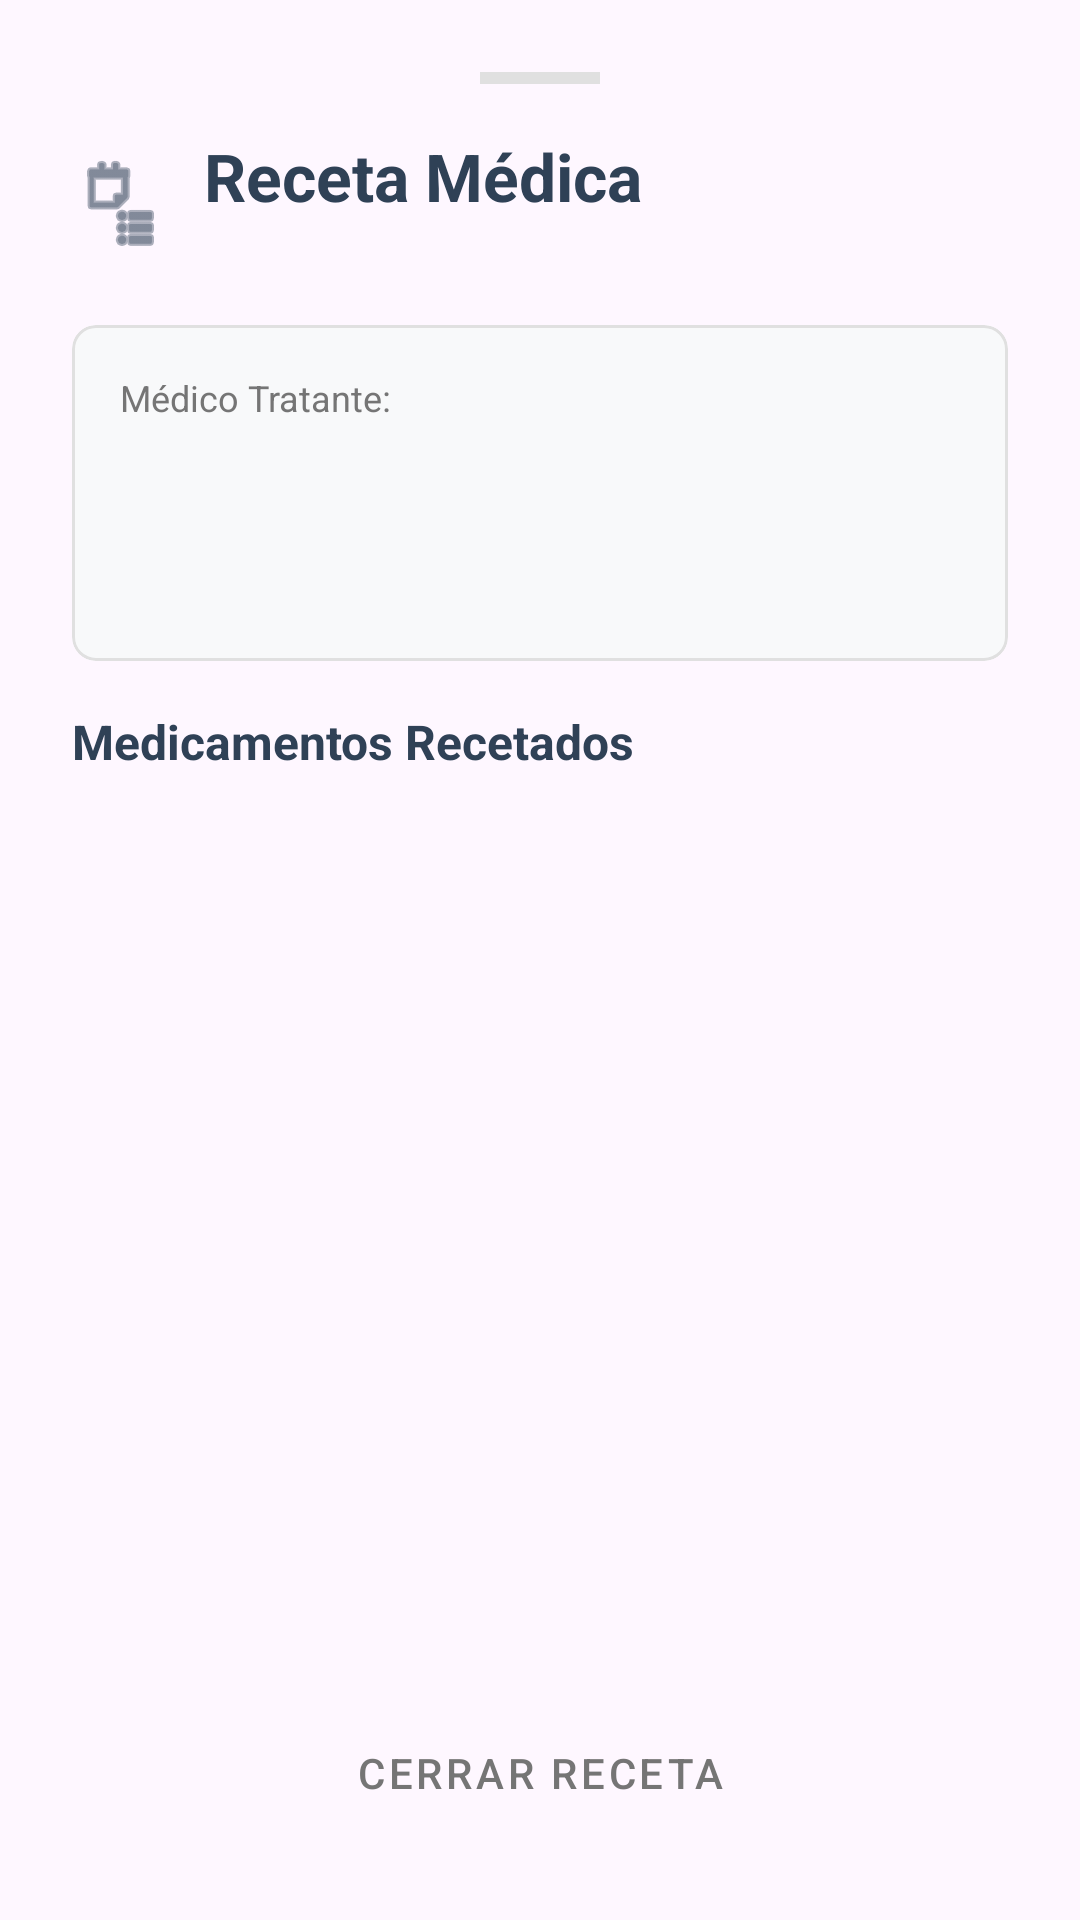

Named icons in this screenshot (1080x1920) and their bounding boxes, region(x1, y1, x2, y2):
agenda: region(87, 161, 154, 246)
